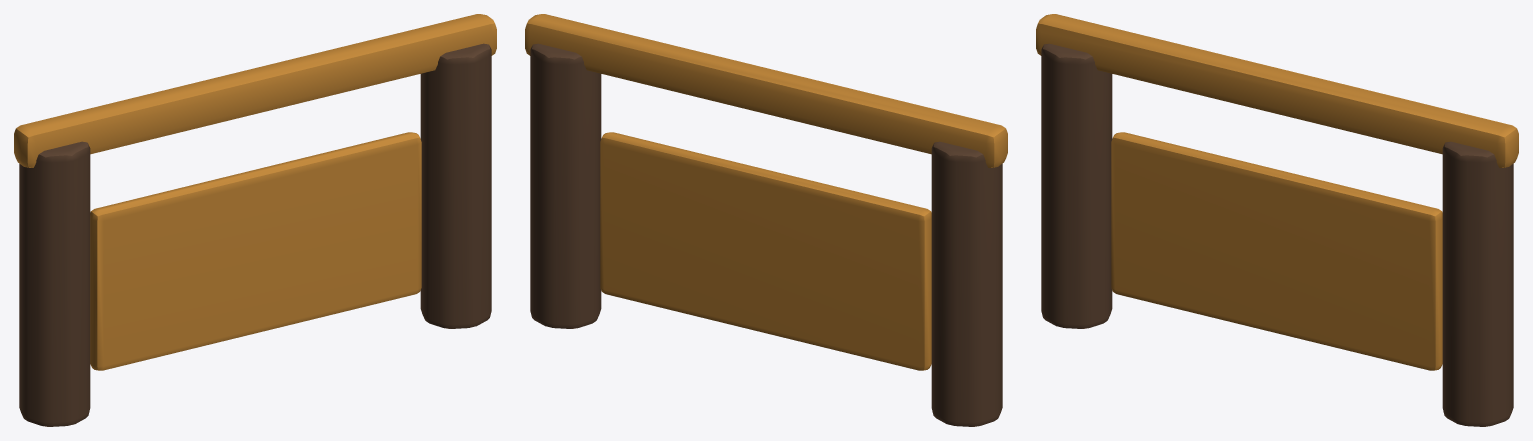
Rendered from prop_gate.glb.
3 renders of one model, left to right at view 1: azimuth 30°, elevation 25°; view 2: azimuth 150°, elevation 25°; view 3: azimuth 330°, elevation 25°, orthographic.
Parts seen in each view (by area): view 1: gate_door, gate_top, gate_post1, gate_post2; view 2: gate_door, gate_top, gate_post1, gate_post2; view 3: gate_door, gate_top, gate_post2, gate_post1.
Boxes of the visible parts, x1,y1,x2,y2 form: gate_door: (90,132,421,370); gate_top: (14,14,496,167); gate_post1: (19,141,90,426); gate_post2: (420,43,491,328); gate_door: (600,132,931,370); gate_top: (525,14,1007,167); gate_post1: (931,141,1002,426); gate_post2: (530,43,601,328); gate_door: (1111,132,1442,370); gate_top: (1036,14,1518,167); gate_post2: (1442,141,1513,426); gate_post1: (1041,43,1112,328).
Size of the model in its own units: 1.3 by 0.77 by 0.1737.
